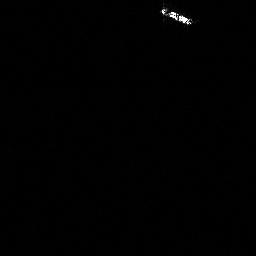ship: (158, 6, 195, 27)
